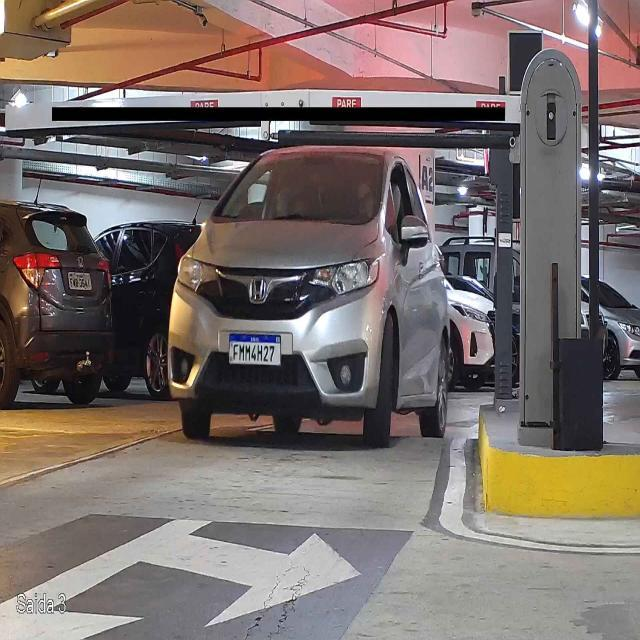mercosul_plate: (227, 332, 282, 367)
